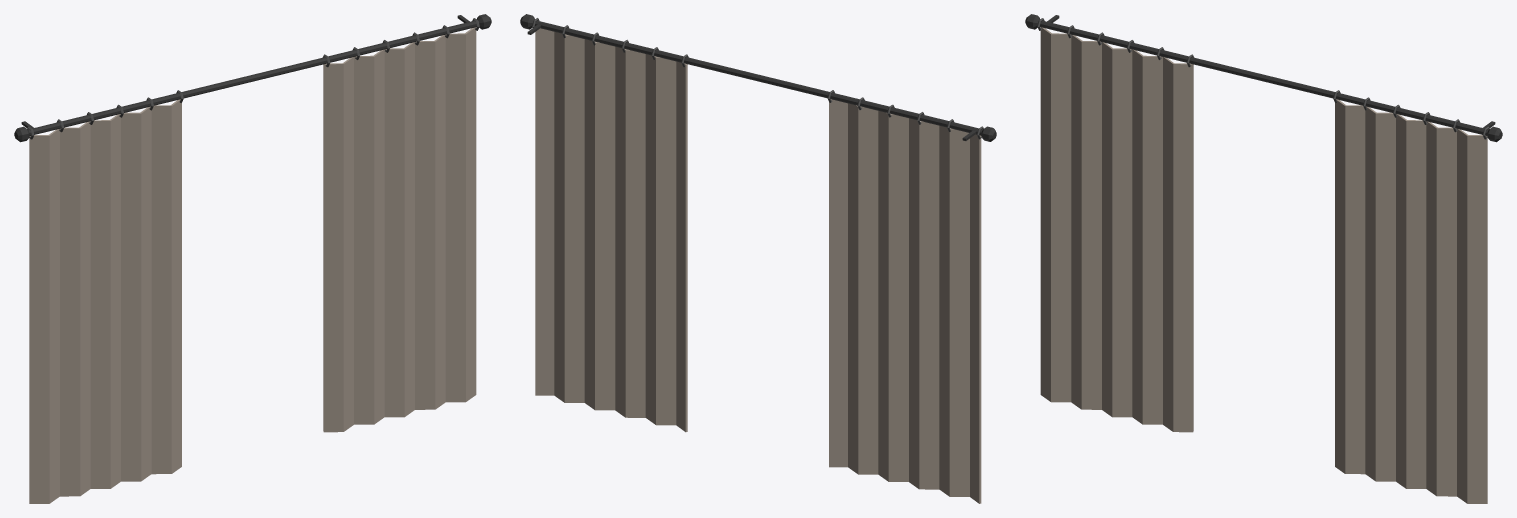
The model's file is Curtains3_C2.fbx.
3 views of the same model, side by side, from view 1: azimuth 30°, elevation 25°; view 2: azimuth 150°, elevation 25°; view 3: azimuth 330°, elevation 25° (orthographic).
Parts seen in each view (by area): view 1: Curtains3_C2; view 2: Curtains3_C2; view 3: Curtains3_C2.
Boxes of the visible parts, x1,y1,x2,y2 form: Curtains3_C2: (14,14,491,503); Curtains3_C2: (520,14,996,503); Curtains3_C2: (1025,14,1502,503).
Bounding box in the file's own units: 233 × 178 × 14.03.
